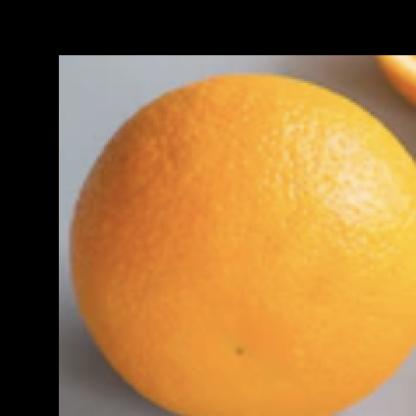fresh: (72, 76, 416, 416)
